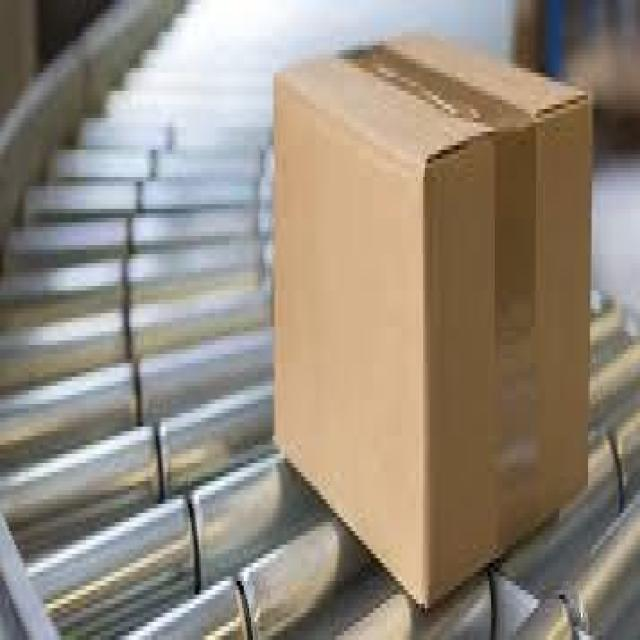box: (273, 34, 591, 604)
